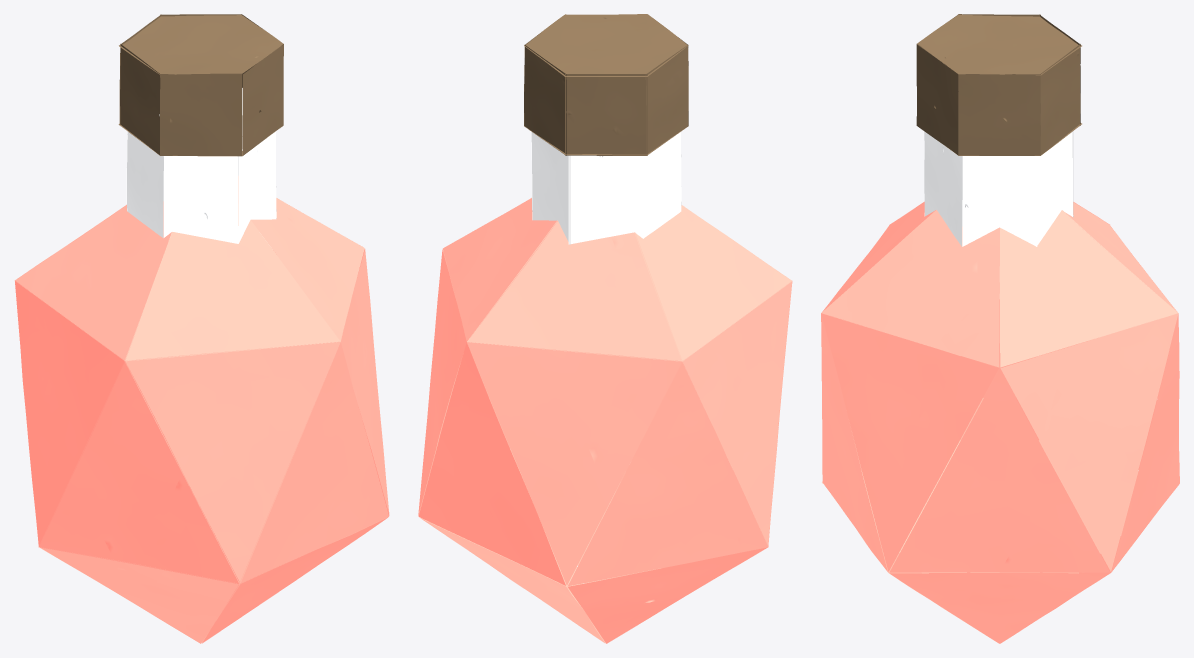
The model's file is potion_health.glb.
The picture shows the model from 3 angles, left to right: view 1: azimuth 30°, elevation 25°; view 2: azimuth 150°, elevation 25°; view 3: azimuth 270°, elevation 25°; orthographic projection.
Visible parts, largest first — view 1: PotionHealth; view 2: PotionHealth; view 3: PotionHealth.
Boxes of the visible parts, left/top/right/bottom form: PotionHealth: left=14, top=14, right=389, bottom=643; PotionHealth: left=418, top=14, right=792, bottom=643; PotionHealth: left=821, top=14, right=1179, bottom=643.
Bounding box in the file's own units: 0.5018 × 0.8817 × 0.4779.
